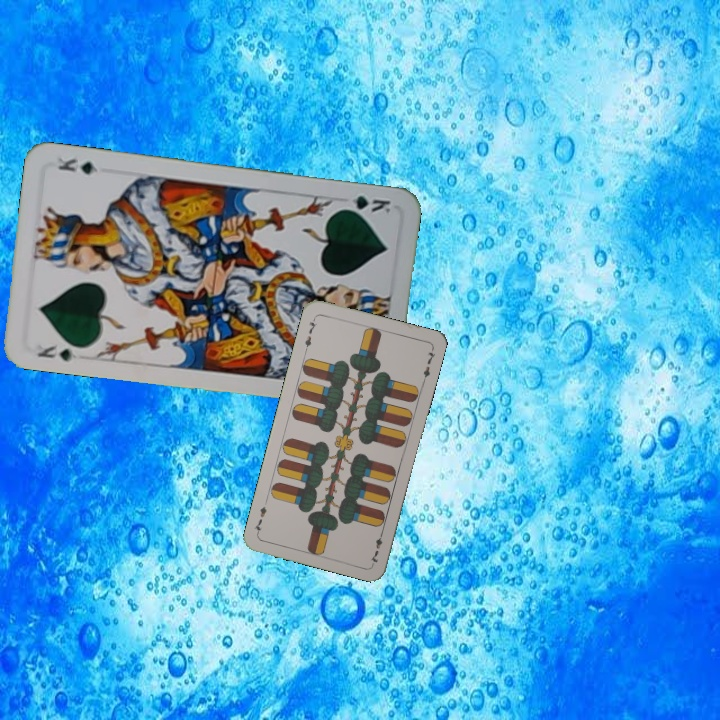E7: (366, 526, 386, 566), (300, 313, 319, 353)
GK: (336, 191, 393, 216), (33, 340, 79, 364)
